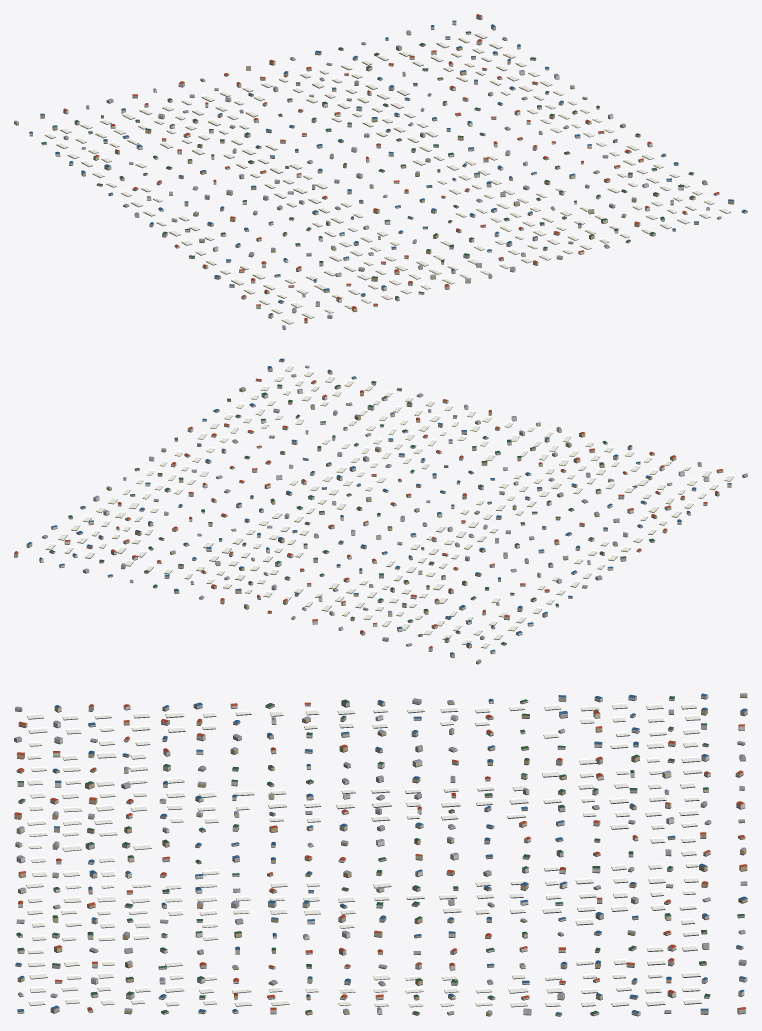
Rendered from buildings_T_E01_N03.glb.
3 views of the same model, one above another, from view 1: azimuth 30°, elevation 25°; view 2: azimuth 150°, elevation 25°; view 3: azimuth 270°, elevation 25° (orthographic). The views are drawn at different scales.
Visible parts, largest first — view 1: T_E01_N03_roofs_agri_greenhouse_arch, T_E01_N03_slope_seating_foundations, T_E01_N03_walls_wall_pastel_sand_gray, T_E01_N03_walls_wall_modern_warm_white, T_E01_N03_walls_wall_french_ochre_villa, T_E01_N03_roofs_roof_highland_blue_gable, T_E01_N03_roofs_roof_zinc_silver_gable, T_E01_N03_walls_wall_dalat_cream_stucco, T_E01_N03_roofs_roof_pine_green_hip, T_E01_N03_roofs_roof_terracotta_gable; view 2: T_E01_N03_roofs_agri_greenhouse_arch, T_E01_N03_slope_seating_foundations, T_E01_N03_walls_wall_pastel_sand_gray, T_E01_N03_walls_wall_modern_warm_white, T_E01_N03_walls_wall_french_ochre_villa, T_E01_N03_roofs_roof_highland_blue_gable, T_E01_N03_roofs_roof_zinc_silver_gable, T_E01_N03_walls_wall_dalat_cream_stucco, T_E01_N03_roofs_roof_pine_green_hip, T_E01_N03_roofs_roof_terracotta_gable; view 3: T_E01_N03_roofs_agri_greenhouse_arch, T_E01_N03_slope_seating_foundations, T_E01_N03_walls_wall_pastel_sand_gray, T_E01_N03_walls_wall_modern_warm_white, T_E01_N03_walls_wall_french_ochre_villa, T_E01_N03_roofs_roof_highland_blue_gable, T_E01_N03_roofs_roof_zinc_silver_gable, T_E01_N03_walls_wall_dalat_cream_stucco, T_E01_N03_roofs_roof_terracotta_gable, T_E01_N03_roofs_roof_pine_green_hip.
Part boxes in pixels (x1=…): T_E01_N03_roofs_agri_greenhouse_arch: x1=44, y1=32, x2=731, y2=323; T_E01_N03_slope_seating_foundations: x1=14, y1=18, x2=747, y2=329; T_E01_N03_walls_wall_pastel_sand_gray: x1=40, y1=15, x2=734, y2=329; T_E01_N03_walls_wall_modern_warm_white: x1=29, y1=22, x2=683, y2=312; T_E01_N03_walls_wall_french_ochre_villa: x1=14, y1=44, x2=707, y2=322; T_E01_N03_roofs_roof_highland_blue_gable: x1=29, y1=20, x2=747, y2=315; T_E01_N03_roofs_roof_zinc_silver_gable: x1=14, y1=30, x2=721, y2=327; T_E01_N03_walls_wall_dalat_cream_stucco: x1=41, y1=39, x2=747, y2=318; T_E01_N03_roofs_roof_pine_green_hip: x1=41, y1=31, x2=695, y2=298; T_E01_N03_roofs_roof_terracotta_gable: x1=63, y1=14, x2=719, y2=320; T_E01_N03_roofs_agri_greenhouse_arch: x1=45, y1=365, x2=733, y2=647; T_E01_N03_slope_seating_foundations: x1=14, y1=361, x2=747, y2=664; T_E01_N03_walls_wall_pastel_sand_gray: x1=14, y1=367, x2=747, y2=657; T_E01_N03_walls_wall_modern_warm_white: x1=39, y1=389, x2=709, y2=653; T_E01_N03_walls_wall_french_ochre_villa: x1=86, y1=371, x2=723, y2=663; T_E01_N03_roofs_roof_highland_blue_gable: x1=27, y1=358, x2=731, y2=654; T_E01_N03_roofs_roof_zinc_silver_gable: x1=42, y1=365, x2=747, y2=661; T_E01_N03_walls_wall_dalat_cream_stucco: x1=68, y1=360, x2=731, y2=645; T_E01_N03_roofs_roof_pine_green_hip: x1=49, y1=381, x2=654, y2=644; T_E01_N03_roofs_roof_terracotta_gable: x1=14, y1=378, x2=722, y2=648; T_E01_N03_roofs_agri_greenhouse_arch: x1=26, y1=702, x2=702, y2=1006; T_E01_N03_slope_seating_foundations: x1=14, y1=697, x2=747, y2=1016; T_E01_N03_walls_wall_pastel_sand_gray: x1=14, y1=696, x2=747, y2=1014; T_E01_N03_walls_wall_modern_warm_white: x1=16, y1=694, x2=747, y2=1015; T_E01_N03_walls_wall_french_ochre_villa: x1=14, y1=695, x2=747, y2=1015; T_E01_N03_roofs_roof_highland_blue_gable: x1=15, y1=693, x2=747, y2=1014; T_E01_N03_roofs_roof_zinc_silver_gable: x1=14, y1=693, x2=747, y2=1013; T_E01_N03_walls_wall_dalat_cream_stucco: x1=15, y1=697, x2=747, y2=1015; T_E01_N03_roofs_roof_terracotta_gable: x1=14, y1=702, x2=747, y2=1010; T_E01_N03_roofs_roof_pine_green_hip: x1=16, y1=696, x2=744, y2=1014.
Bounding box in the file's own units: 1752 × 48.2 × 1751.
